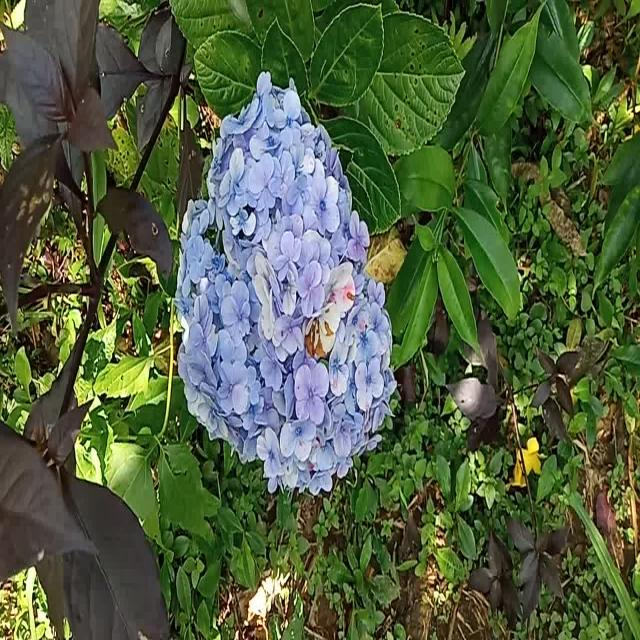Flower: (176, 75, 394, 505)
